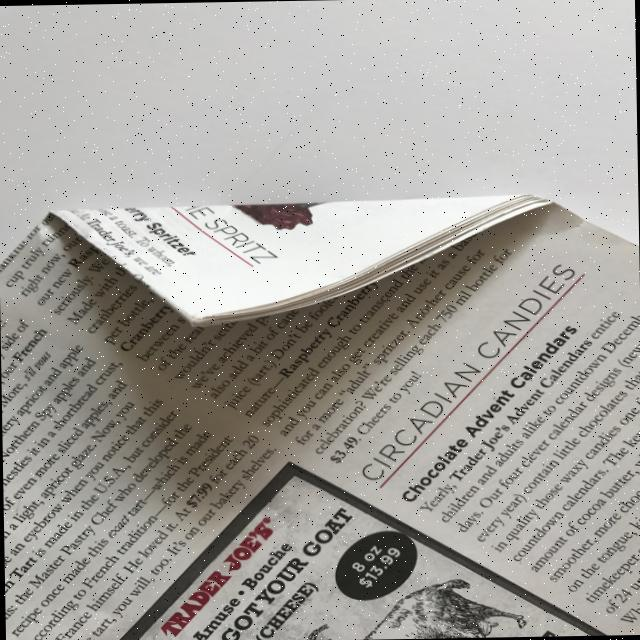paper: (0, 191, 640, 640), (47, 193, 555, 330)
